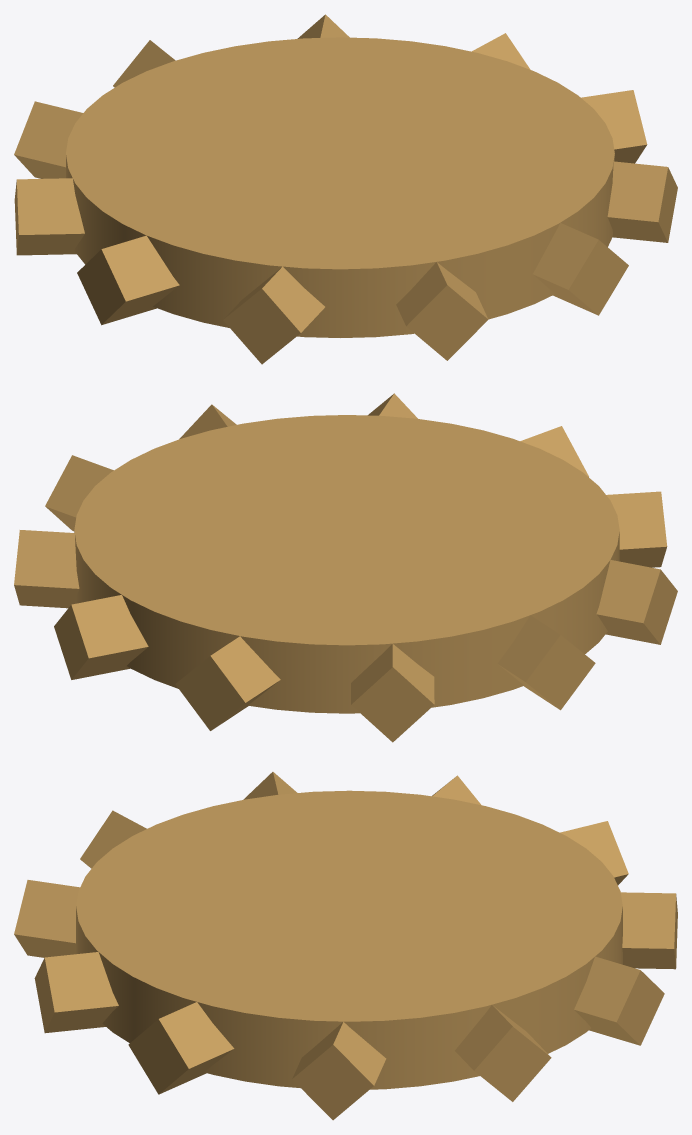
File: Continental.glb
The picture shows the model from 3 angles, top to bottom: view 1: azimuth 30°, elevation 25°; view 2: azimuth 150°, elevation 25°; view 3: azimuth 270°, elevation 25°; orthographic projection.
Parts seen in each view (by area): view 1: Ratchet hub, Ratchet tooth (×11); view 2: Ratchet hub, Ratchet tooth (×11); view 3: Ratchet hub, Ratchet tooth (×11).
Part boxes in pixels (left/top/right/bottom): Ratchet hub: left=66, top=37, right=614, bottom=337; Ratchet tooth (×11): left=14, top=14, right=677, bottom=364; Ratchet hub: left=74, top=415, right=619, bottom=713; Ratchet tooth (×11): left=14, top=393, right=677, bottom=742; Ratchet hub: left=76, top=790, right=622, bottom=1089; Ratchet tooth (×11): left=14, top=772, right=677, bottom=1120.
Bounding box in the file's own units: 0.4131 × 0.052 × 0.4129.
